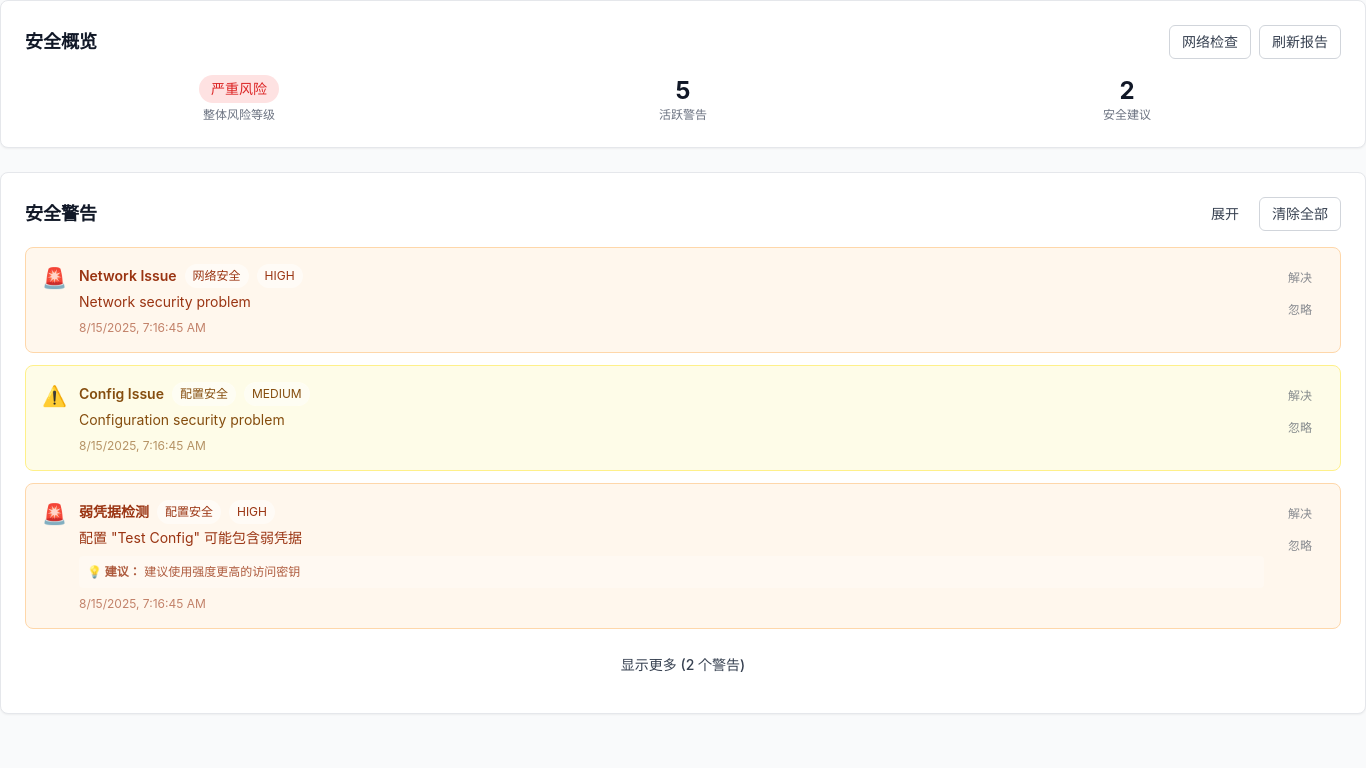
Scenario: Security Components Integration › Security Service Integration › should create and manage warnings across components
Expected: the heading "Network Issue" is shown, [79,266,177,286]
Expected: the heading "Config Issue" is shown, [79,384,164,404]
# Clear all warnings
Click the button "清除全部".
click(1300, 214)  # box [1259,197,1341,231]
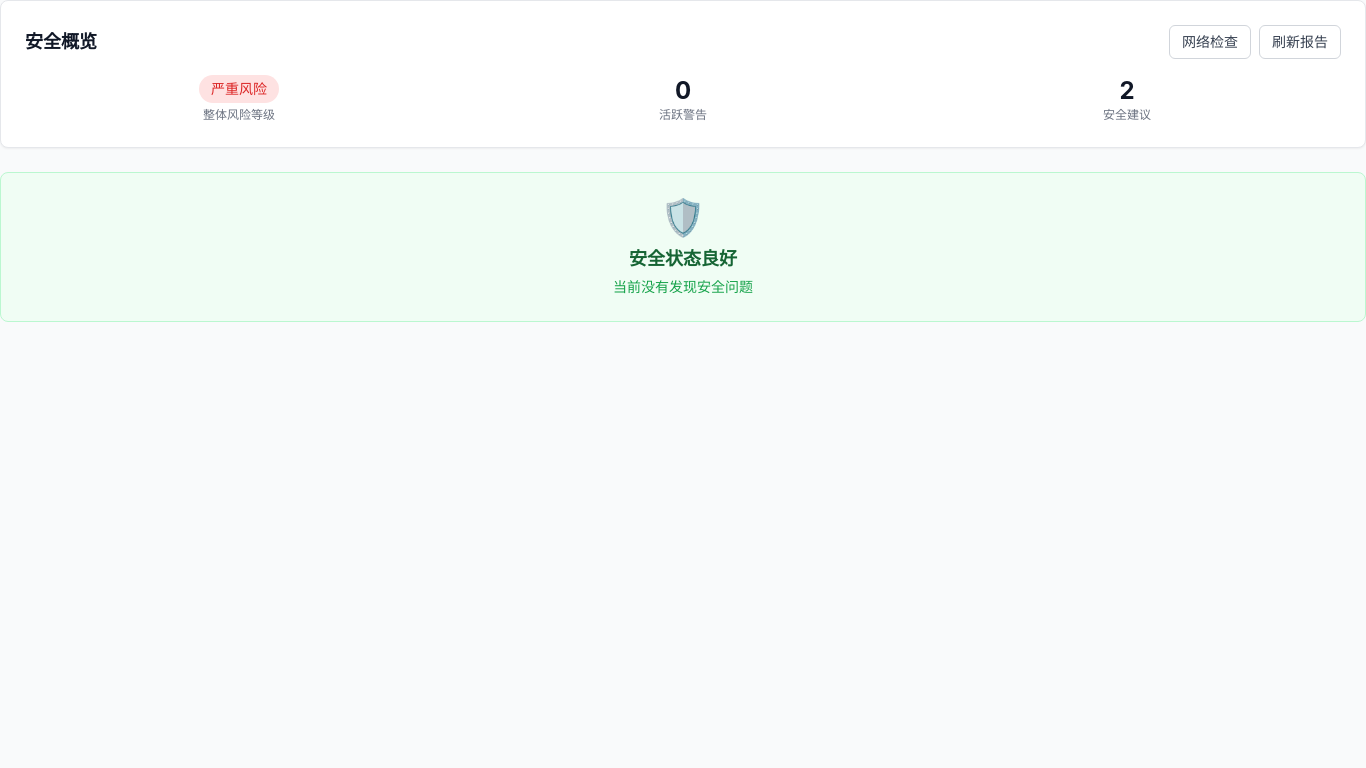
Result: the heading "安全状态良好" is shown at [629,248,737,269]
